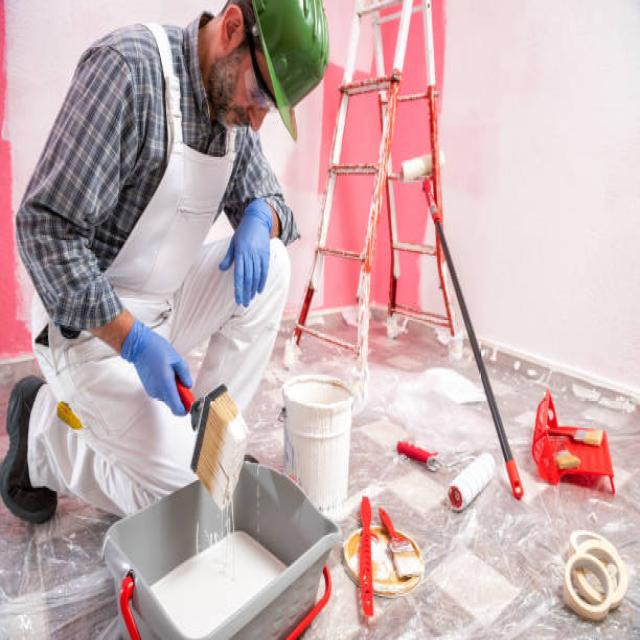gloves: (118, 318, 197, 418), (216, 195, 274, 308)
